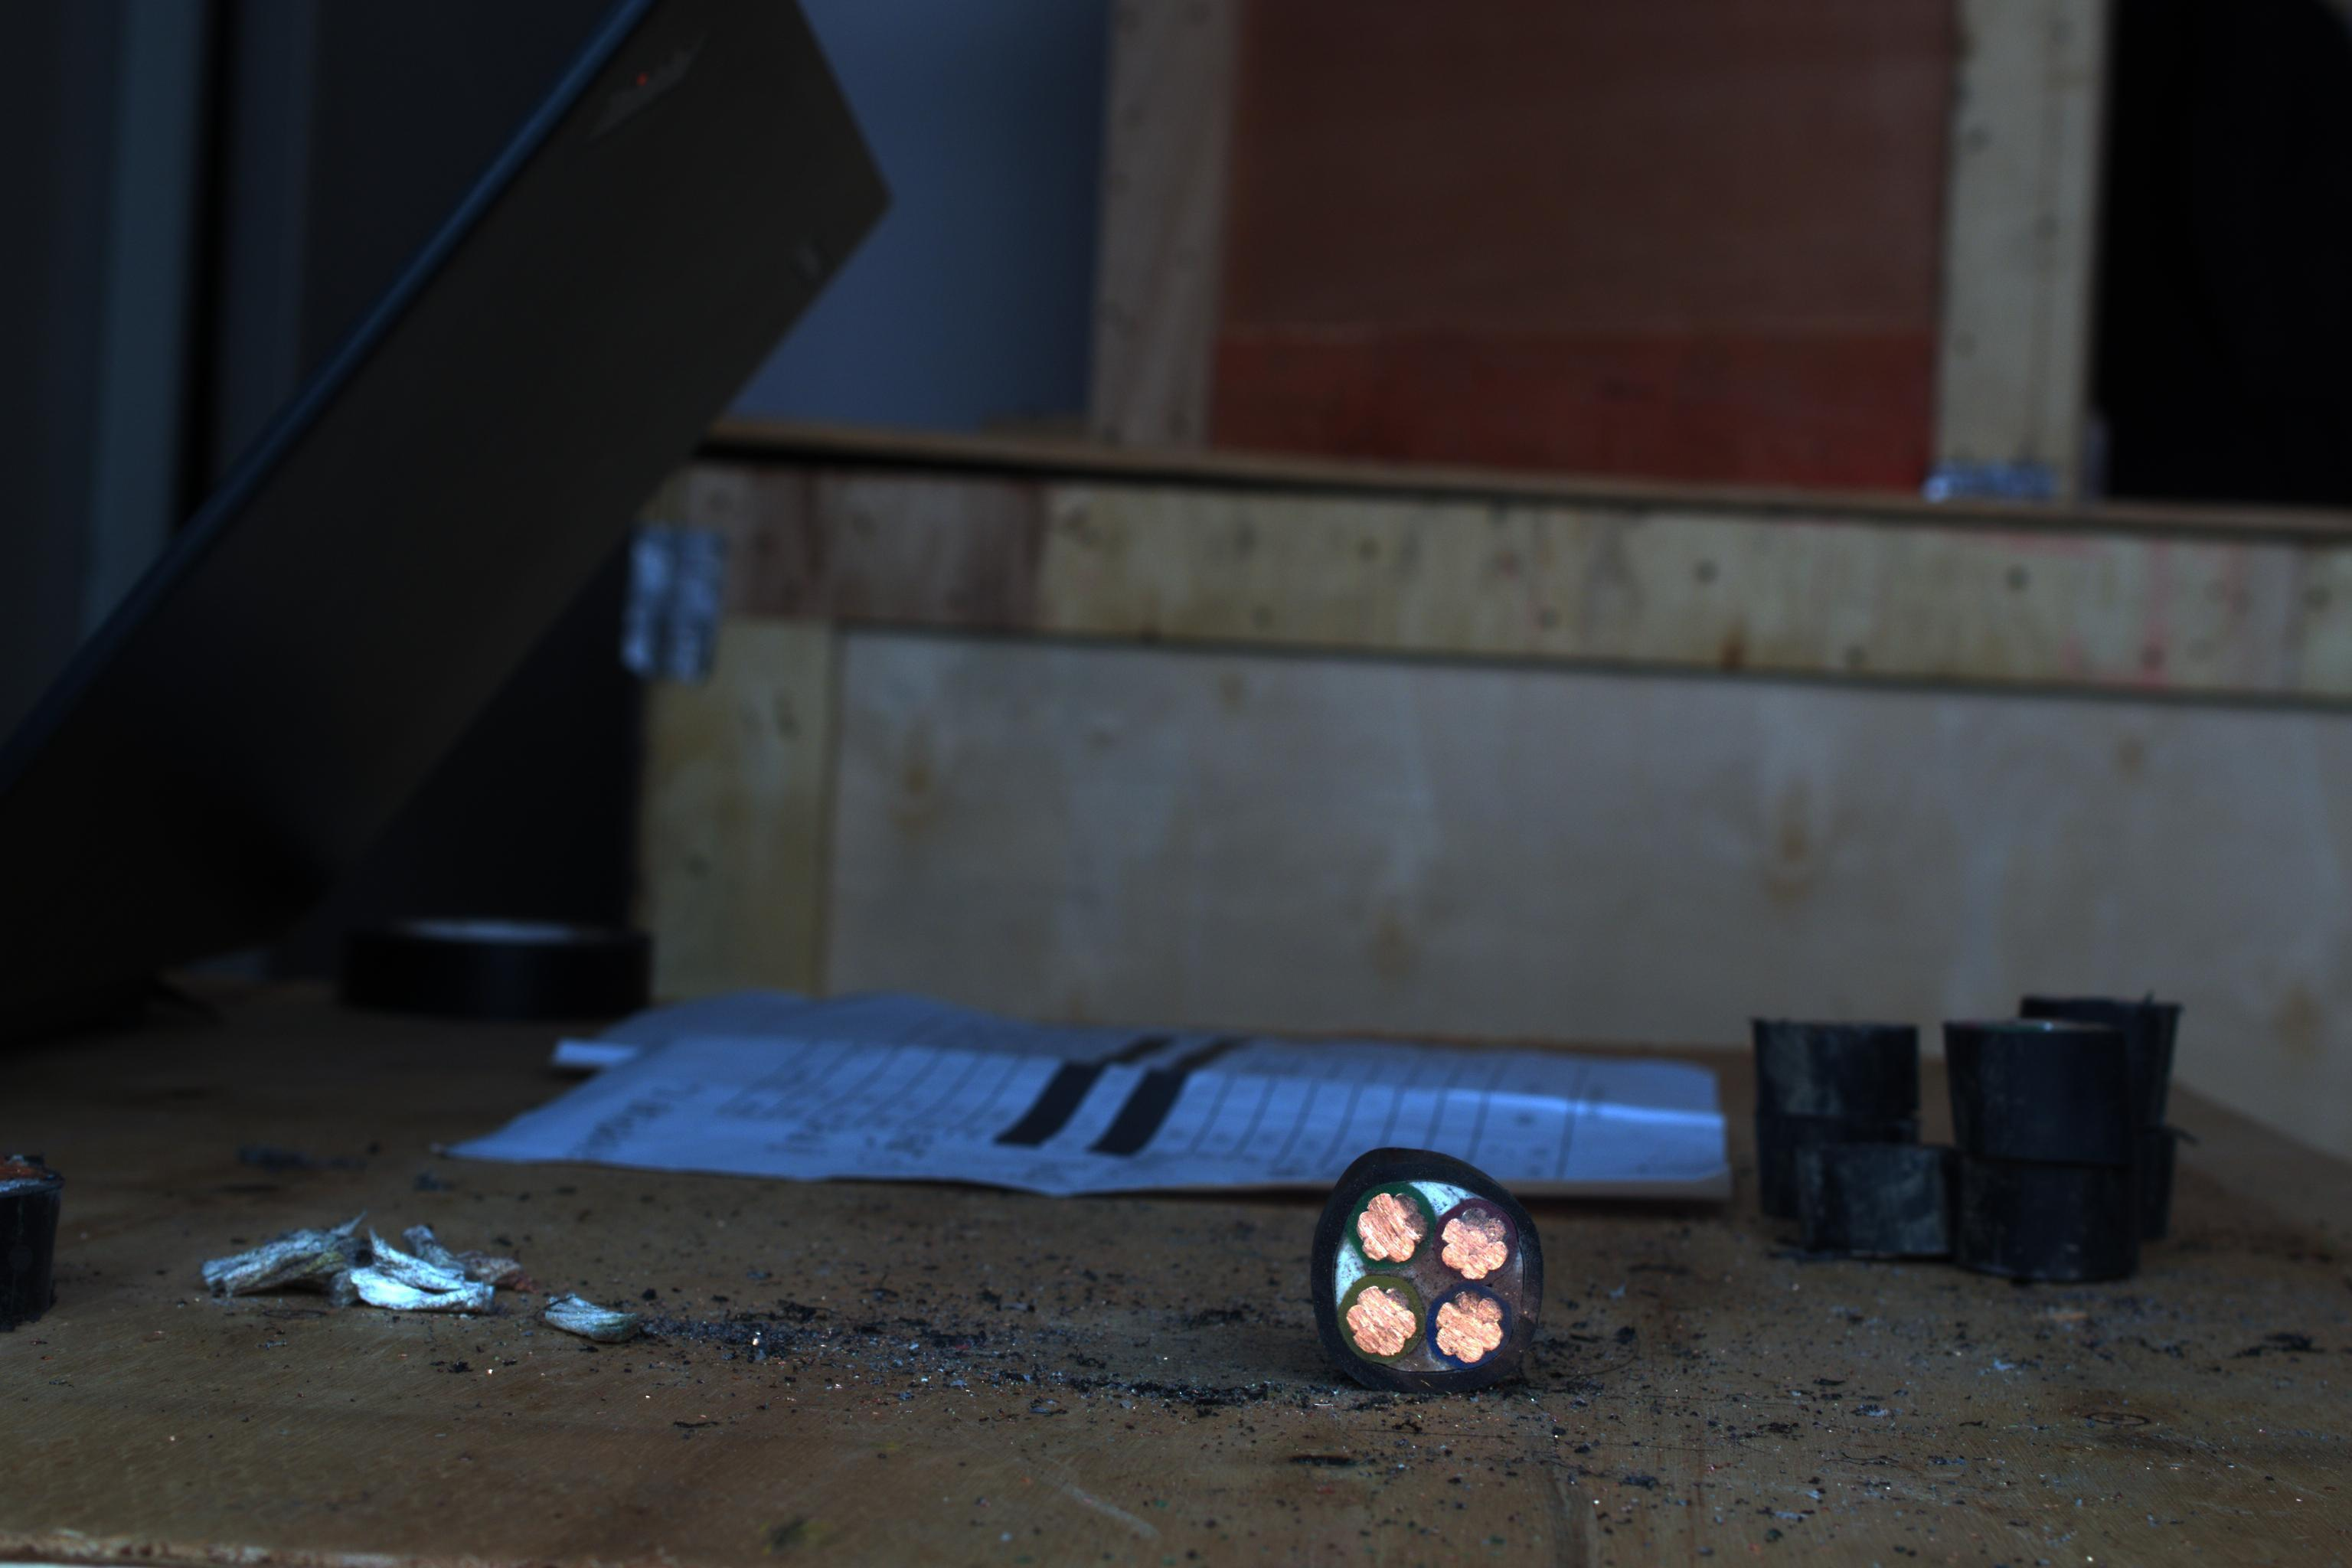YJV_0.6_1kV_4x35: (1307, 1151, 1563, 1389)
